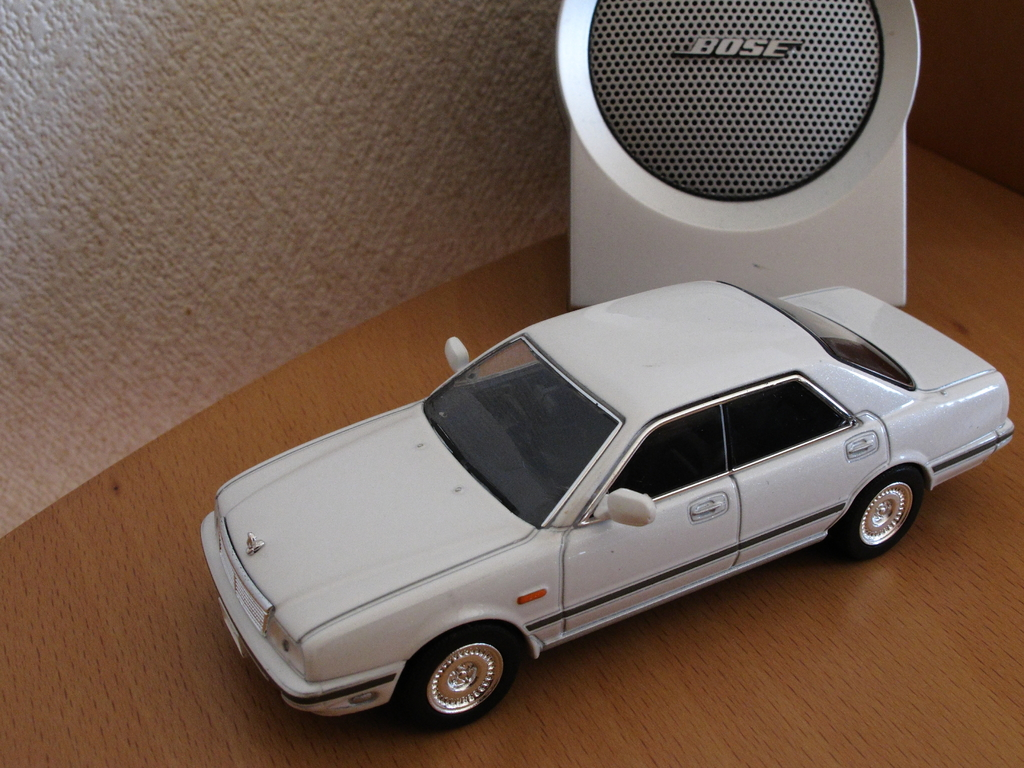cars: (203, 241, 1005, 751)
